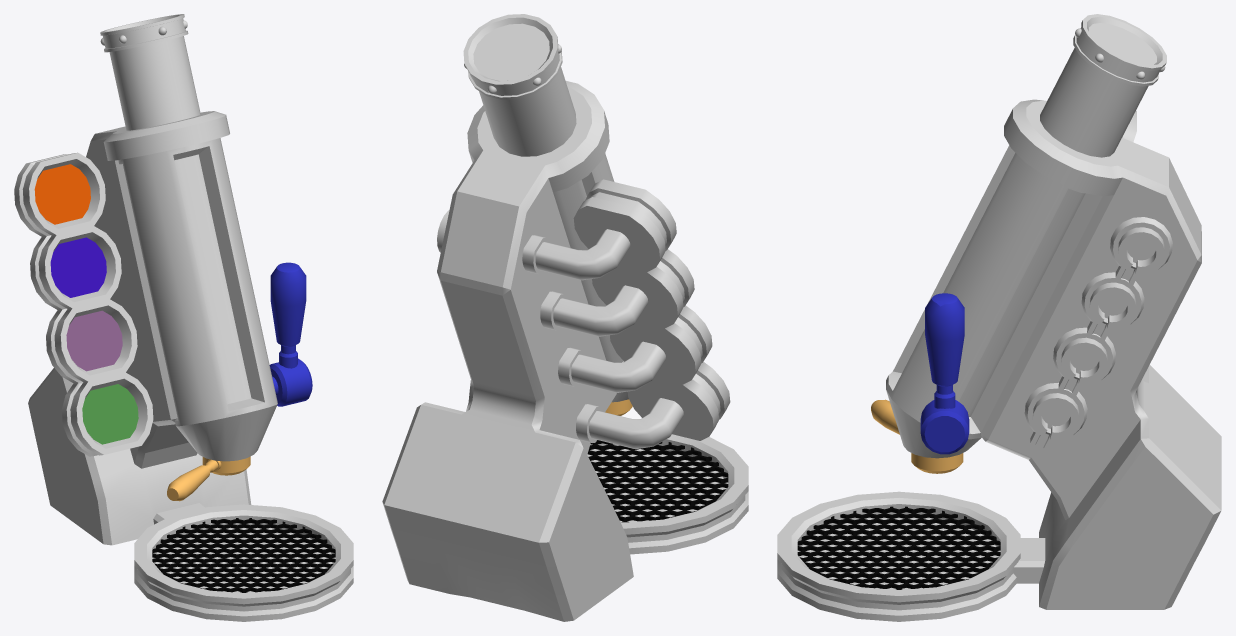
Rendered from Brew1_low.fbx.
The picture shows the model from 3 angles, left to right: view 1: azimuth 30°, elevation 25°; view 2: azimuth 150°, elevation 25°; view 3: azimuth 270°, elevation 25°; orthographic projection. The views are drawn at different scales.
Parts seen in each view (by area): view 1: Brew_low, Brew_Handle_low, Brew_Beans_low, Brew_Sweet_low, Brew_Liquid_low, Brew_Bio_low, Brew_Drip_low; view 2: Brew_low; view 3: Brew_low, Brew_Handle_low, Brew_Drip_low.
Boxes of the visible parts, x1,y1,x2,y2 form: Brew_low: (14, 14, 353, 621); Brew_Handle_low: (269, 262, 312, 406); Brew_Beans_low: (82, 384, 138, 444); Brew_Sweet_low: (66, 310, 122, 371); Brew_Liquid_low: (50, 237, 106, 297); Brew_Bio_low: (34, 164, 90, 224); Brew_Drip_low: (167, 456, 250, 501); Brew_low: (382, 14, 748, 621); Brew_low: (777, 14, 1221, 621); Brew_Handle_low: (920, 293, 969, 454); Brew_Drip_low: (871, 399, 963, 473).
Bounding box in the file's own units: 81.16 × 169 × 125.
